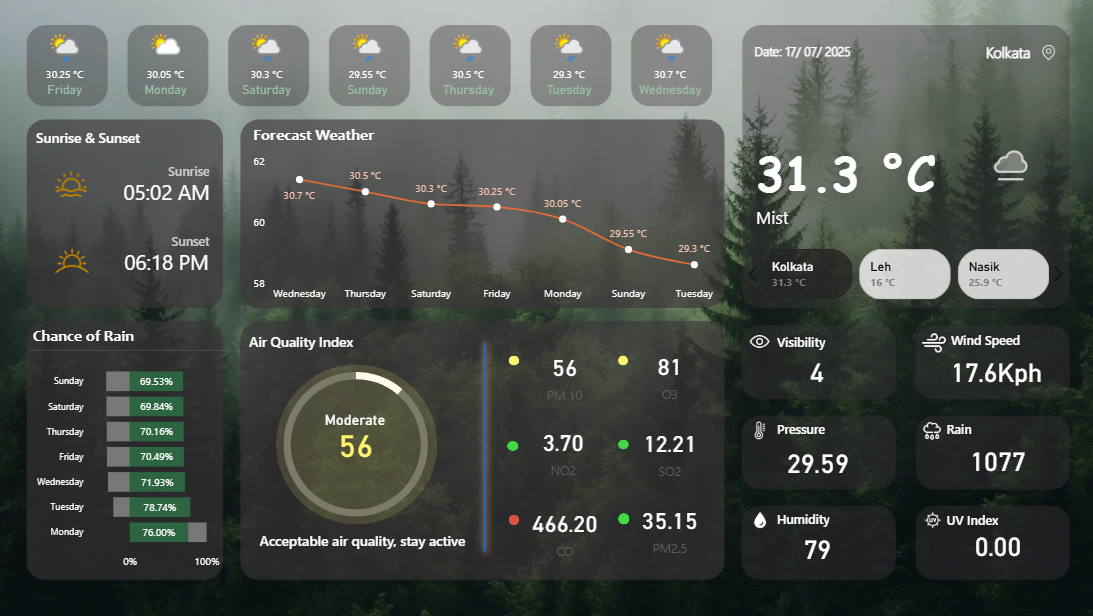

Layout of this report page (visuals, bound fields, positions):
{"tool":"powerbi","page":{"name":"Page 1","canvas":[1280,720],"ordinal":0},"visuals":[{"type":"donutChart","fields":{"Y":["Sum(Current.current.air_quality.pm10)","_Measures.Left_Value_PM10"]},"box":[304.2,408.3,224.5,221.2],"z":0},{"type":"shape","box":[322.1,426.2,188.7,187.1],"z":1000},{"type":"advancedSlicerVisual","fields":{"Values":["Location.location.name"]},"box":[865.3,286.3,388.7,69.9],"z":2000},{"type":"shape","box":[884.4,164.4,251.1,70],"z":3000},{"type":"shape","box":[884.4,236.7,353.3,34.4],"z":4000},{"type":"shape","box":[1049.1,43.9,156.1,34.2],"z":5000},{"type":"image","box":[1210.1,47.2,32.5,27.7],"z":6000},{"type":"shape","box":[883.2,43.9,135,32.5],"z":7000},{"type":"cardVisual","fields":{"Data":["Min(Current.current.condition.icon)"]},"box":[1136,144,90,94],"z":8000},{"type":"image","box":[868.9,381.1,40,36.7],"z":9000},{"type":"shape","box":[908.9,384.4,134.4,31.1],"z":10000},{"type":"image","box":[1070,486.7,40,35.6],"z":11000},{"type":"image","box":[868.9,487.8,40,31.1],"z":12000},{"type":"image","box":[1074.4,592.2,34.4,30],"z":13000},{"type":"image","box":[1072.2,380,40,40],"z":14000},{"type":"image","box":[874.4,592.2,30,30],"z":15000},{"type":"shape","box":[1112.2,383.3,125.6,30],"z":16000},{"type":"shape","box":[908.9,486.7,134.4,31.1],"z":17000},{"type":"shape","box":[1107.8,486.7,135.6,31.1],"z":18000},{"type":"shape","box":[908.9,591.1,134.4,31.1],"z":19000},{"type":"shape","box":[1107.8,592.2,134.4,30],"z":20000},{"type":"card","fields":{"Values":["Sum(Current.current.humidity)"]},"box":[927.8,620,54.4,43.3],"z":21000},{"type":"card","fields":{"Values":["Sum(Current.current.uv)"]},"box":[1122.2,616.7,87.8,42.2],"z":22000},{"type":"card","fields":{"Values":["Sum(Current.current.pressure_in)"]},"box":[908.9,518.9,94.4,42.2],"z":23000},{"type":"card","fields":{"Values":["Sum(Current.current.vis_km)"]},"box":[917.8,412.2,74.4,42.2],"z":24000},{"type":"card","fields":{"Values":["_Measures.Wind_Speed"]},"box":[1100,412.2,130,43.3],"z":25000},{"type":"card","fields":{"Values":["Sum(Forecast_day.forecast.forecastday.day.daily_chance_of_rain)"]},"box":[1118.9,515.6,94.4,43.3],"z":26000},{"type":"lineChart","title":"Forecast Weather","fields":{"Y":["Sum(Forecast_day.forecast.forecastday.day.avgtemp_c)"],"Category":["Forecast_day.Day_Name"]},"box":[291.2,144.8,556.3,214.7],"z":27000},{"type":"advancedSlicerVisual","fields":{"Values":["Forecast_day.Day_Name"]},"box":[16.3,27.7,831.2,97.6],"z":28000},{"type":"shape","box":[42.3,144.8,135,30.9],"z":29000},{"type":"shape","box":[111.8,190,132.7,68.2],"z":30000},{"type":"shape","box":[110.6,271.6,133.4,68.3],"z":31000},{"type":"shape","box":[136.4,184.5,108.2,30.9],"z":32000},{"type":"shape","box":[134.5,266.4,110,30],"z":33000},{"type":"image","box":[51.8,274.5,63.6,62.7],"z":34000},{"type":"image","box":[60,190.9,47.3,48.2],"z":35000},{"type":"hundredPercentStackedBarChart","title":"Chance of Rain","fields":{"Y":["Sum(Forecast_day.forecast.forecastday.day.daily_chance_of_rain)","Current.Left_value_Rain"],"Category":["Forecast_day.Day_Name"]},"box":[34,380,228,294],"z":36000},{"type":"shape","box":[291.2,383.9,135,29.3],"z":37000},{"type":"card","fields":{"Values":["Sum(Current.current.air_quality.pm10)"]},"box":[607.3,400,105.5,78.2],"z":38000},{"type":"shape","box":[594.5,600.9,12.7,12.7],"z":39000},{"type":"card","fields":{"Values":["Sum(Current.current.air_quality.o3)"]},"box":[729.1,398.2,106.4,78.2],"z":40000},{"type":"card","fields":{"Values":["Sum(Current.current.air_quality.so2)"]},"box":[729.1,489.1,106.4,77.3],"z":41000},{"type":"card","fields":{"Values":["Sum(Current.current.air_quality.no2)"]},"box":[605.5,488.2,106.4,78.2],"z":42000},{"type":"card","fields":{"Values":["Sum(Current.current.air_quality.co)"]},"box":[607.3,581.8,106.4,77.3],"z":43000},{"type":"card","fields":{"Values":["Sum(Current.current.air_quality.pm2_5)"]},"box":[729.1,578.2,106.4,78.2],"z":44000},{"type":"shape","box":[722.7,513.6,12.7,11.8],"z":45000},{"type":"shape","box":[594.5,415.5,12.7,11.8],"z":46000},{"type":"shape","box":[722.7,415.5,11.8,11.8],"z":47000},{"type":"shape","box":[592.7,515.5,13.6,11.8],"z":48000},{"type":"shape","box":[722.7,600,13.6,13.6],"z":49000},{"type":"shape","box":[544.9,392,42.3,263.5],"z":50000},{"type":"card","fields":{"Values":["Sum(Current.current.air_quality.pm10)"]},"box":[353,481.5,125.2,74.8],"z":51000},{"type":"shape","box":[304.3,602.9,274.3,55.7],"z":52000}]}

Visuals, with their boxes in screenshot pixels (x1, y1, x2, y2), scaled from the page's 1280x720 canvas onto the 1093x616 screenshot:
donutChart - Sum(Current.current.air_quality.pm10) x _Measures.Left_Value_PM10: locate(260, 349, 451, 539)
shape: locate(275, 365, 436, 525)
advancedSlicerVisual - Location.location.name: locate(739, 245, 1071, 305)
shape: locate(755, 141, 970, 201)
shape: locate(755, 203, 1057, 232)
shape: locate(896, 38, 1029, 67)
image: locate(1033, 40, 1061, 64)
shape: locate(754, 38, 869, 65)
cardVisual - Min(Current.current.condition.icon): locate(970, 123, 1047, 204)
image: locate(742, 326, 776, 357)
shape: locate(776, 329, 891, 355)
image: locate(914, 416, 948, 447)
image: locate(742, 417, 776, 444)
image: locate(917, 507, 947, 532)
image: locate(916, 325, 950, 359)
image: locate(747, 507, 772, 532)
shape: locate(950, 328, 1057, 354)
shape: locate(776, 416, 891, 443)
shape: locate(946, 416, 1062, 443)
shape: locate(776, 506, 891, 532)
shape: locate(946, 507, 1061, 532)
card - Sum(Current.current.humidity): locate(792, 530, 839, 567)
card - Sum(Current.current.uv): locate(958, 528, 1033, 564)
card - Sum(Current.current.pressure_in): locate(776, 444, 857, 480)
card - Sum(Current.current.vis_km): locate(784, 353, 847, 389)
card - _Measures.Wind_Speed: locate(939, 353, 1050, 390)
card - Sum(Forecast_day.forecast.forecastday.day.daily_chance_of_rain): locate(955, 441, 1036, 478)
"Forecast Weather" lineChart: locate(249, 124, 724, 308)
advancedSlicerVisual - Forecast_day.Day_Name: locate(14, 24, 724, 107)
shape: locate(36, 124, 151, 150)
shape: locate(95, 163, 209, 221)
shape: locate(94, 232, 208, 291)
shape: locate(116, 158, 209, 184)
shape: locate(115, 228, 209, 254)
image: locate(44, 235, 99, 288)
image: locate(51, 163, 92, 205)
"Chance of Rain" hundredPercentStackedBarChart: locate(29, 325, 224, 577)
shape: locate(249, 328, 364, 354)
card - Sum(Current.current.air_quality.pm10): locate(519, 342, 609, 409)
shape: locate(508, 514, 518, 525)
card - Sum(Current.current.air_quality.o3): locate(623, 341, 713, 408)
card - Sum(Current.current.air_quality.so2): locate(623, 418, 713, 485)
card - Sum(Current.current.air_quality.no2): locate(517, 418, 608, 485)
card - Sum(Current.current.air_quality.co): locate(519, 498, 609, 564)
card - Sum(Current.current.air_quality.pm2_5): locate(623, 495, 713, 562)
shape: locate(617, 439, 628, 450)
shape: locate(508, 355, 518, 366)
shape: locate(617, 355, 627, 366)
shape: locate(506, 441, 518, 451)
shape: locate(617, 513, 629, 525)
shape: locate(465, 335, 501, 561)
card - Sum(Current.current.air_quality.pm10): locate(301, 412, 408, 476)
shape: locate(260, 516, 494, 563)
